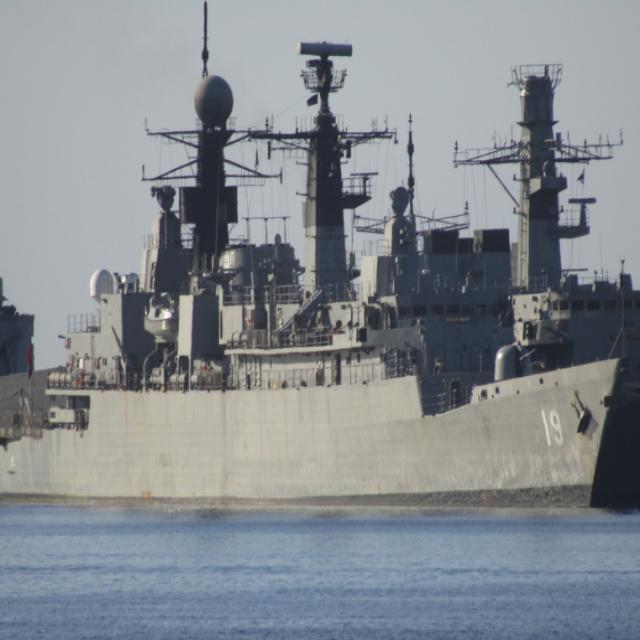Fragata: (1, 72, 636, 516)
